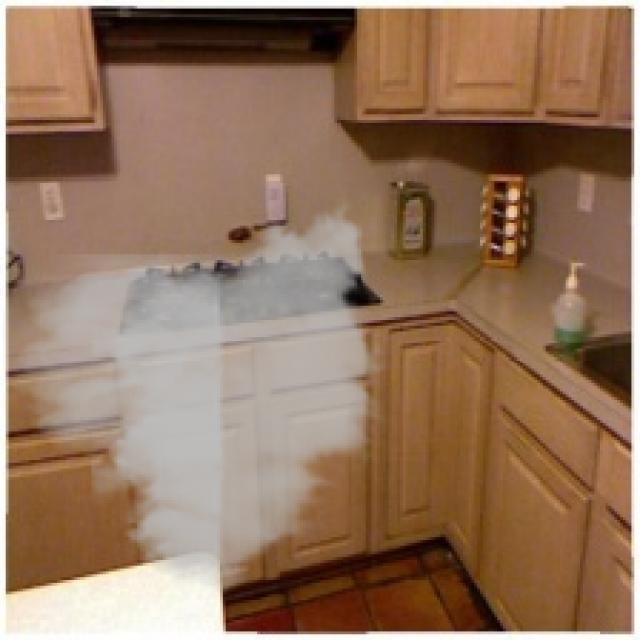Smoke: (2, 191, 392, 606)
